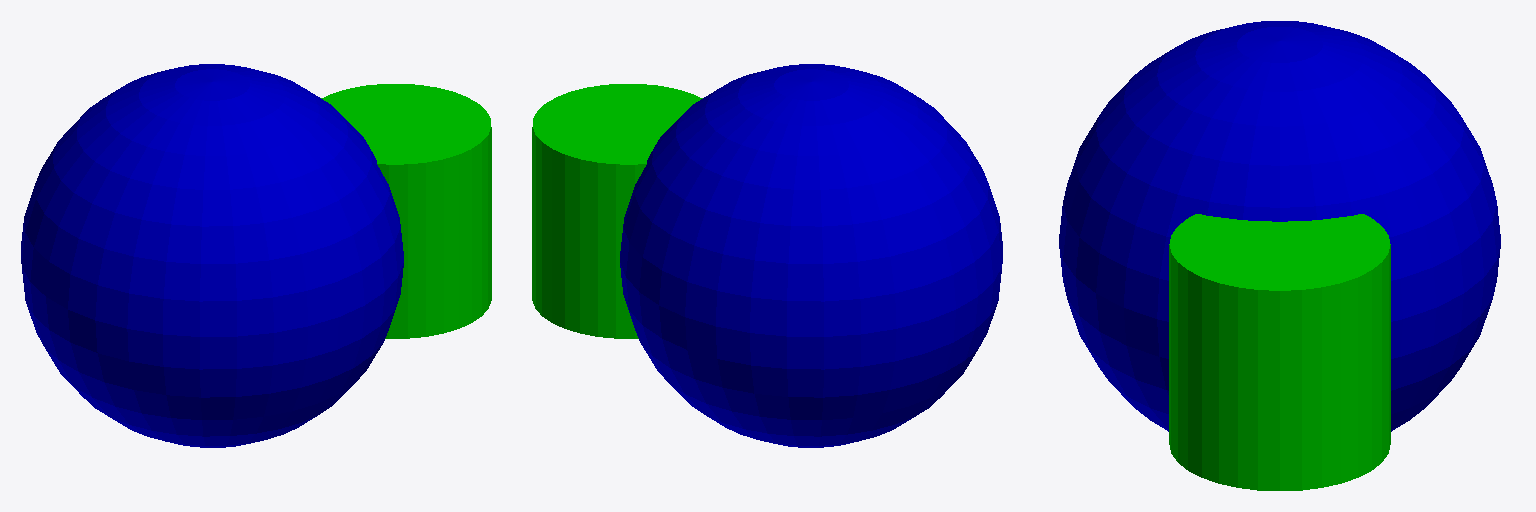
URDF robot description (A_vs_B):
<?xml version="1.0"?>
<robot name="A_vs_B">
  <material name="blue">
    <color rgba="0 0 0.8 .5"/>
  </material>
  <material name="green">
    <color rgba="0 0.8 0 .5"/>
  </material>
  <link name="A">
    <visual>
      <geometry>
        <sphere radius="1"/>
      </geometry>
      <origin rpy="0.0 0 0" xyz="-0.8 0 0"/>
      <material name="blue"/>
    </visual>
  </link>
  <link name="B">
    <visual>
      <geometry>
        <cylinder length="1.0" radius="0.5"/>
      </geometry>
      <origin rpy="0 0 0" xyz="0.3 0 0"/>
      <material name="green"/>
    </visual>
  </link>
  <joint name="joint1" type="revolute">
    <axis xyz="0 0 1"/>
    <limit effort="1" lower="-1" upper="1" velocity="1"/>
    <origin rpy="0 0 0" xyz="0 0 0"/>
    <parent link="A"/>
    <child link="B"/>
  </joint>
</robot>

--- Facts derived from the render (not from the file) ---
3 views of the same robot in one strip: view 1: azimuth 30°, elevation 25°; view 2: azimuth 150°, elevation 25°; view 3: azimuth 270°, elevation 25° (orthographic).
Robot: A_vs_B — 2 links, 1 joints (1 revolute); root link A; default pose: all joints at 0.
Visible links, largest first — view 1: A, B; view 2: A, B; view 3: A, B.
Boxes of the visible links, bbox=[...] form: A: bbox=[21, 64, 403, 447]; B: bbox=[321, 84, 491, 338]; A: bbox=[620, 64, 1002, 447]; B: bbox=[532, 84, 702, 338]; A: bbox=[1059, 21, 1500, 431]; B: bbox=[1169, 214, 1390, 490].
Size in the robot's own frame: 2.6 by 2 by 2 metres.
Geometry: primitives only (box / cylinder / sphere), no mesh files.